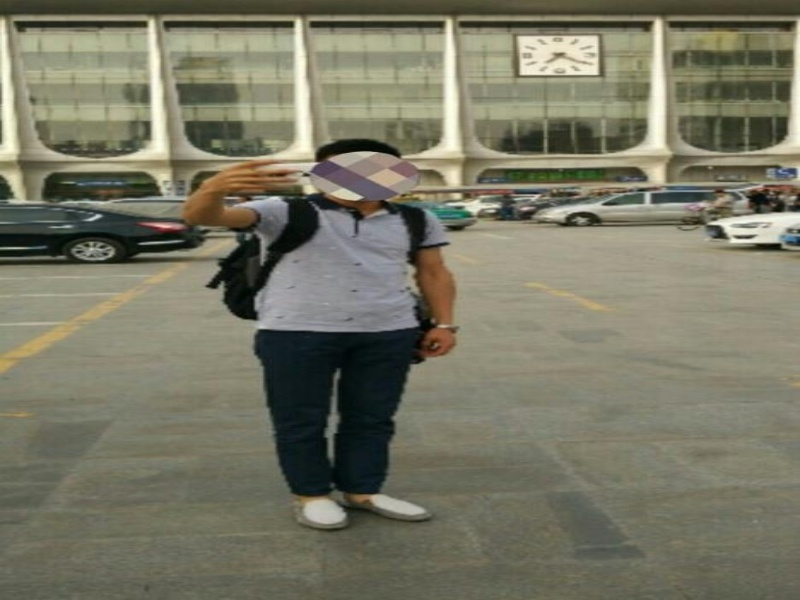short_sleeved_shirt: (222, 192, 451, 333)
trousers: (248, 310, 426, 498)
